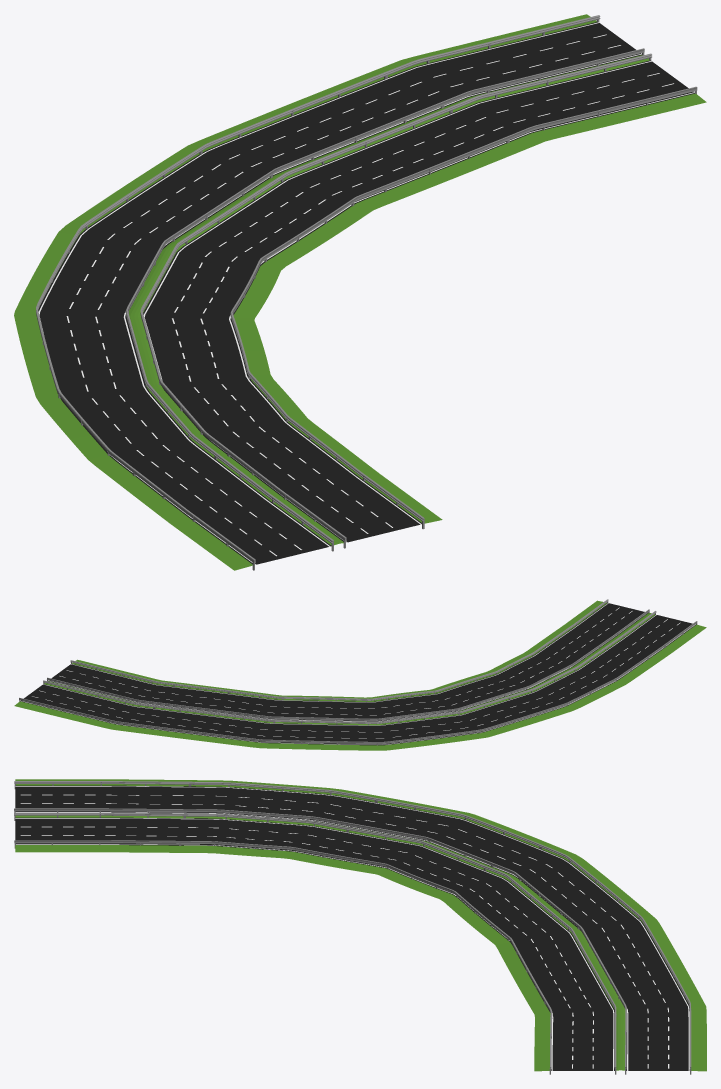
The model's file is street_Curve2_hway_fix.fbx.
3 renders of one model, top to bottom at view 1: azimuth 30°, elevation 25°; view 2: azimuth 150°, elevation 25°; view 3: azimuth 270°, elevation 25°, orthographic. The views are drawn at different scales.
Parts seen in each view (by area): view 1: street_curve1_hway; view 2: street_curve1_hway; view 3: street_curve1_hway.
Part boxes in pixels (<box>): street_curve1_hway: <box>14,14,706,570</box>; street_curve1_hway: <box>14,599,706,750</box>; street_curve1_hway: <box>14,779,706,1074</box>.
Size of the model in its own units: 12829 by 160 by 12841.
